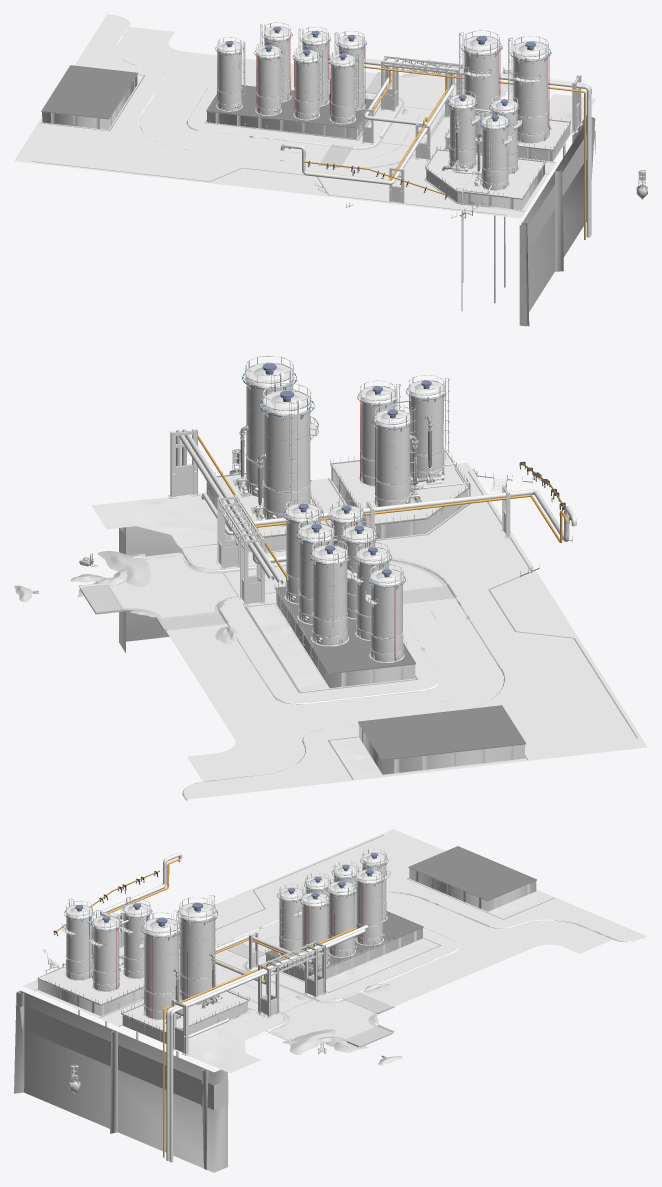
Rendered from cell_85_54.fbx.
3 views of the same model, one above another, from view 1: azimuth 30°, elevation 25°; view 2: azimuth 150°, elevation 25°; view 3: azimuth 270°, elevation 25° (orthographic). The views are drawn at different scales.
Visible parts, largest first — view 1: SM_I_RoadFacility_Ground_T_05.mo, SM_I_RoadFacility_Ground_T_02.mo, SM_I_RoadFacility_Ground_R_02Dc.mo, SM_H_Industrial_Mechanical_MetalSilo_03d.mo.010, SM_I_RoadFacility_Pipe_T_04A.mo, SM_H_Industrial_Mechanical_MetalSilo_03d.mo.013, SM_H_Industrial_Mechanical_MetalSilo_03d.mo.014, SM_H_Industrial_Mechanical_MetalSilo_03d.mo.008, SM_H_Industrial_Mechanical_MetalSilo_03d.mo.004, SM_H_Industrial_Mechanical_MetalSilo_03d.mo.006, SM_H_Industrial_Mechanical_MetalSilo_03d.mo.003, SM_I_RoadFacility_Pipe_T_07A.mo (+11 smaller); view 2: SM_I_RoadFacility_Ground_T_05.mo, SM_I_RoadFacility_Ground_T_02.mo, SM_H_Industrial_Mechanical_MetalSilo_03d.mo.013, SM_H_Industrial_Mechanical_MetalSilo_03d.mo.011, SM_H_Industrial_Mechanical_MetalSilo_03d.mo.005, SM_I_RoadFacility_Pipe_T_04A.mo, SM_H_Industrial_Mechanical_MetalSilo_03d.mo.010, SM_H_Industrial_Mechanical_MetalSilo_03d.mo.014, SM_H_Industrial_Mechanical_MetalSilo_03d.mo.003, SM_H_WalkwaySystem_MetalSupport_02.mo.001, SM_I_RoadFacility_Ground_R_02Dc.mo, SM_H_Industrial_Mechanical_MetalSilo_03d.mo.012 (+12 smaller); view 3: SM_I_RoadFacility_Ground_T_05.mo, SM_I_RoadFacility_Ground_R_02Dc.mo, SM_I_RoadFacility_Ground_T_02.mo, SM_I_RoadFacility_Ground_R_02Dc_Decal.mo, SM_H_Industrial_Mechanical_MetalSilo_03d.mo.010, SM_I_RoadFacility_Pipe_T_04A.mo, SM_H_Industrial_Mechanical_MetalSilo_03d.mo.013, SM_H_WalkwaySystem_MetalSupport_02.mo.001, SM_H_Industrial_Mechanical_MetalSilo_03d.mo.012, SM_H_Industrial_Mechanical_MetalSilo_03d.mo.014, SM_H_Industrial_Mechanical_MetalSilo_03d.mo.005, SM_H_Industrial_Mechanical_MetalSilo_03d.mo.007 (+12 smaller).
Part boxes in pixels (x1=…): SM_I_RoadFacility_Ground_T_05.mo: x1=14, y1=14, x2=401, y2=195; SM_I_RoadFacility_Ground_T_02.mo: x1=322, y1=71, x2=596, y2=218; SM_I_RoadFacility_Ground_R_02Dc.mo: x1=519, y1=115, x2=595, y2=326; SM_H_Industrial_Mechanical_MetalSilo_03d.mo.010: x1=507, y1=36, x2=551, y2=144; SM_I_RoadFacility_Pipe_T_04A.mo: x1=280, y1=54, x2=591, y2=237; SM_H_Industrial_Mechanical_MetalSilo_03d.mo.013: x1=458, y1=30, x2=502, y2=138; SM_H_Industrial_Mechanical_MetalSilo_03d.mo.014: x1=479, y1=111, x2=512, y2=191; SM_H_Industrial_Mechanical_MetalSilo_03d.mo.008: x1=328, y1=50, x2=358, y2=124; SM_H_Industrial_Mechanical_MetalSilo_03d.mo.004: x1=254, y1=41, x2=284, y2=115; SM_H_Industrial_Mechanical_MetalSilo_03d.mo.006: x1=292, y1=46, x2=322, y2=120; SM_H_Industrial_Mechanical_MetalSilo_03d.mo.003: x1=215, y1=37, x2=245, y2=111; SM_I_RoadFacility_Pipe_T_07A.mo: x1=288, y1=62, x2=585, y2=311; SM_I_RoadFacility_Ground_T_05.mo: x1=160, y1=574, x2=647, y2=800; SM_I_RoadFacility_Ground_T_02.mo: x1=91, y1=451, x2=537, y2=617; SM_H_Industrial_Mechanical_MetalSilo_03d.mo.013: x1=259, y1=383, x2=318, y2=526; SM_H_Industrial_Mechanical_MetalSilo_03d.mo.011: x1=372, y1=404, x2=415, y2=506; SM_H_Industrial_Mechanical_MetalSilo_03d.mo.005: x1=309, y1=540, x2=353, y2=646; SM_I_RoadFacility_Pipe_T_04A.mo: x1=176, y1=429, x2=576, y2=585; SM_H_Industrial_Mechanical_MetalSilo_03d.mo.010: x1=241, y1=355, x2=297, y2=499; SM_H_Industrial_Mechanical_MetalSilo_03d.mo.014: x1=406, y1=375, x2=449, y2=478; SM_H_Industrial_Mechanical_MetalSilo_03d.mo.003: x1=365, y1=560, x2=405, y2=662; SM_H_WalkwaySystem_MetalSupport_02.mo.001: x1=216, y1=495, x2=266, y2=605; SM_I_RoadFacility_Ground_R_02Dc.mo: x1=119, y1=526, x2=445, y2=652; SM_H_Industrial_Mechanical_MetalSilo_03d.mo.012: x1=357, y1=380, x2=400, y2=487; SM_I_RoadFacility_Ground_T_05.mo: x1=177, y1=829, x2=647, y2=1006; SM_I_RoadFacility_Ground_R_02Dc.mo: x1=14, y1=990, x2=227, y2=1172; SM_I_RoadFacility_Ground_T_02.mo: x1=23, y1=935, x2=377, y2=1072; SM_I_RoadFacility_Ground_R_02Dc_Decal.mo: x1=15, y1=1005, x2=228, y2=1109; SM_H_Industrial_Mechanical_MetalSilo_03d.mo.010: x1=138, y1=910, x2=182, y2=1020; SM_I_RoadFacility_Pipe_T_04A.mo: x1=100, y1=853, x2=368, y2=1162; SM_H_Industrial_Mechanical_MetalSilo_03d.mo.013: x1=177, y1=895, x2=218, y2=1005; SM_H_WalkwaySystem_MetalSupport_02.mo.001: x1=257, y1=940, x2=327, y2=1017; SM_H_Industrial_Mechanical_MetalSilo_03d.mo.012: x1=89, y1=910, x2=121, y2=992; SM_H_Industrial_Mechanical_MetalSilo_03d.mo.014: x1=62, y1=898, x2=94, y2=981; SM_H_Industrial_Mechanical_MetalSilo_03d.mo.005: x1=354, y1=864, x2=384, y2=945; SM_H_Industrial_Mechanical_MetalSilo_03d.mo.007: x1=326, y1=876, x2=356, y2=957.
Bounding box in the file's own units: 133 × 54.07 × 146.
